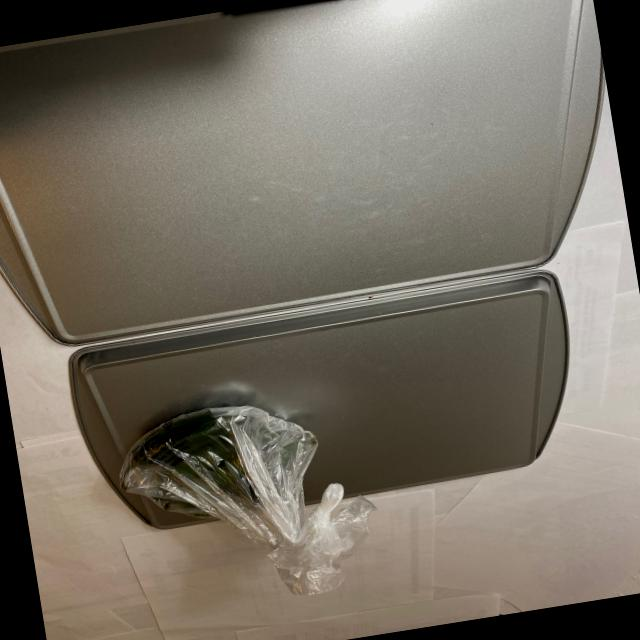chilli: (110, 396, 324, 524)
